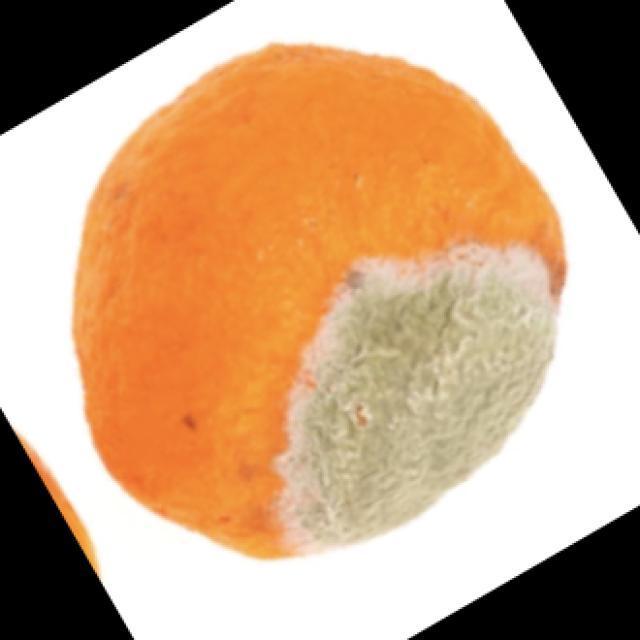sedikit-busuk: (73, 45, 565, 556), (280, 245, 555, 550)
